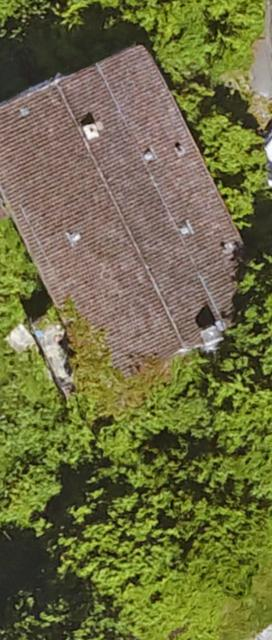tree: (125, 425, 266, 592), (66, 469, 166, 613), (0, 592, 139, 640)
